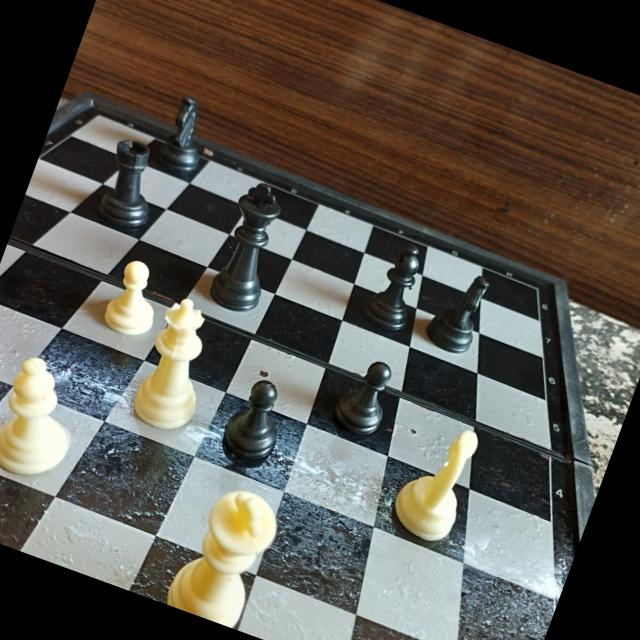Black Bishop: (358, 229, 440, 341)
Black King: (192, 172, 304, 325)
Black Knight: (418, 258, 500, 364), (145, 83, 222, 183)
Black Pawn: (208, 368, 300, 474), (329, 348, 406, 445)
Black Rook: (84, 126, 176, 238)
White Bishop: (0, 346, 95, 492)
White King: (159, 472, 289, 632)
White Knight: (384, 408, 488, 548)
White Pawn: (94, 250, 178, 347)
White Queen: (125, 292, 232, 442)
